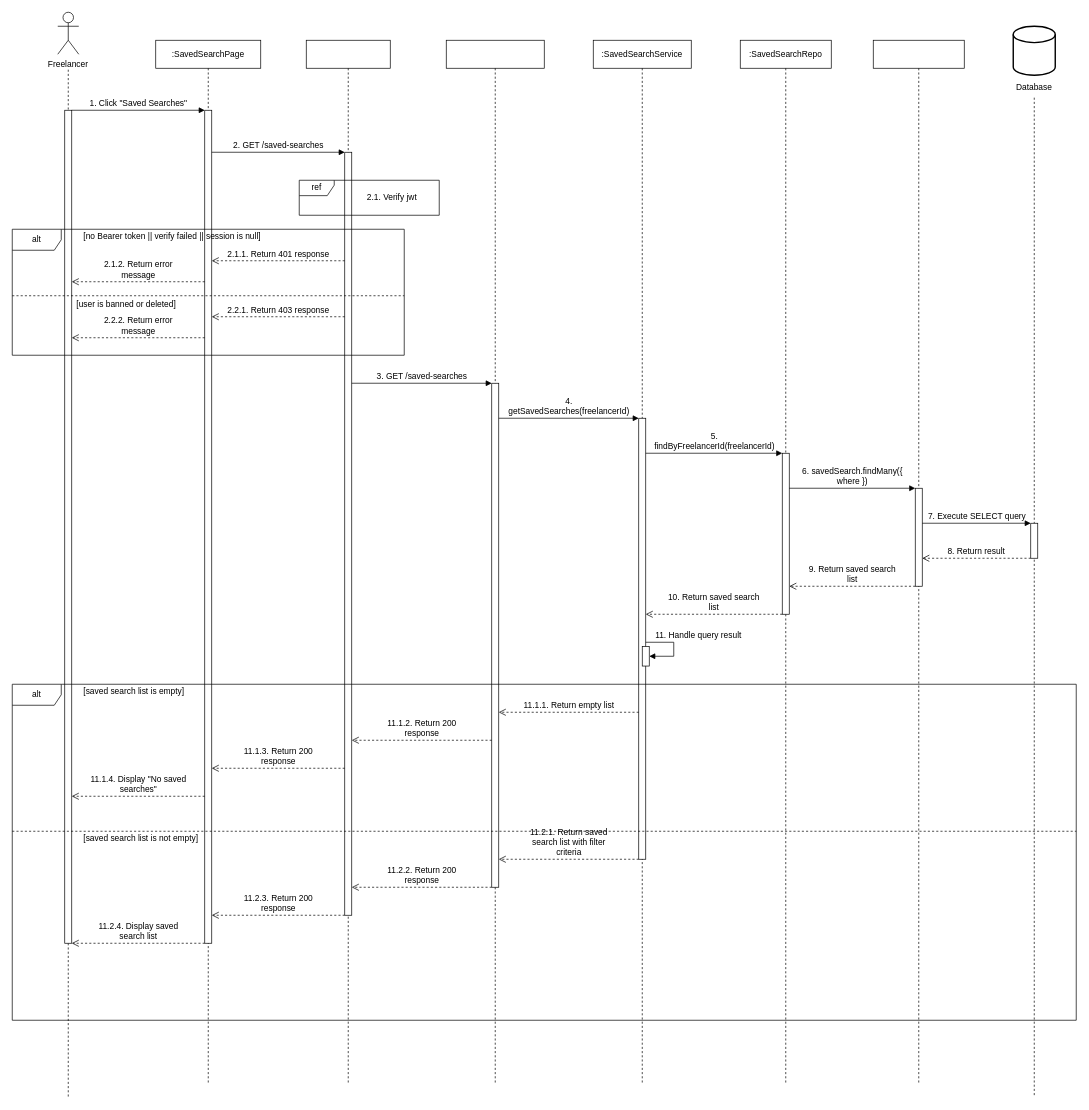
Image size: 1089x1110. Some labels were removed from this diagram. The box of each missing label's shape, as (x1, y1, x2, y2) in pixels:
:PrismaService: (873, 40, 964, 1083)
:SavedSearchController: (446, 40, 544, 1083)
:SavedSearchRoute: (306, 40, 390, 1083)
